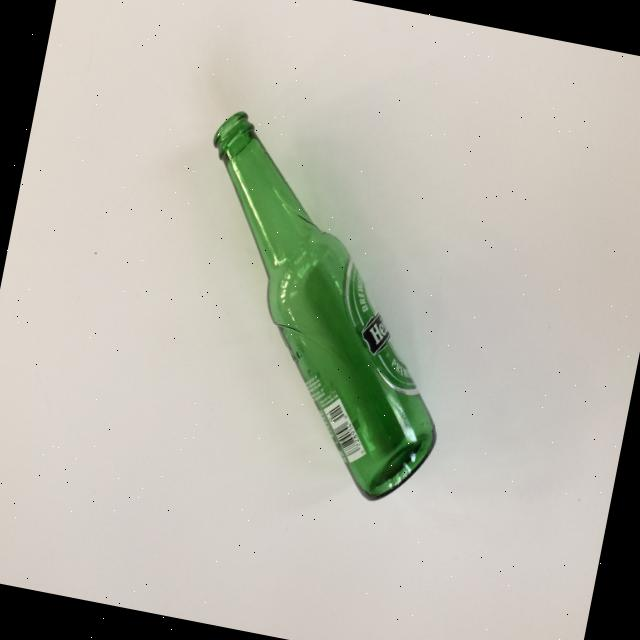glass: (150, 106, 491, 512)
